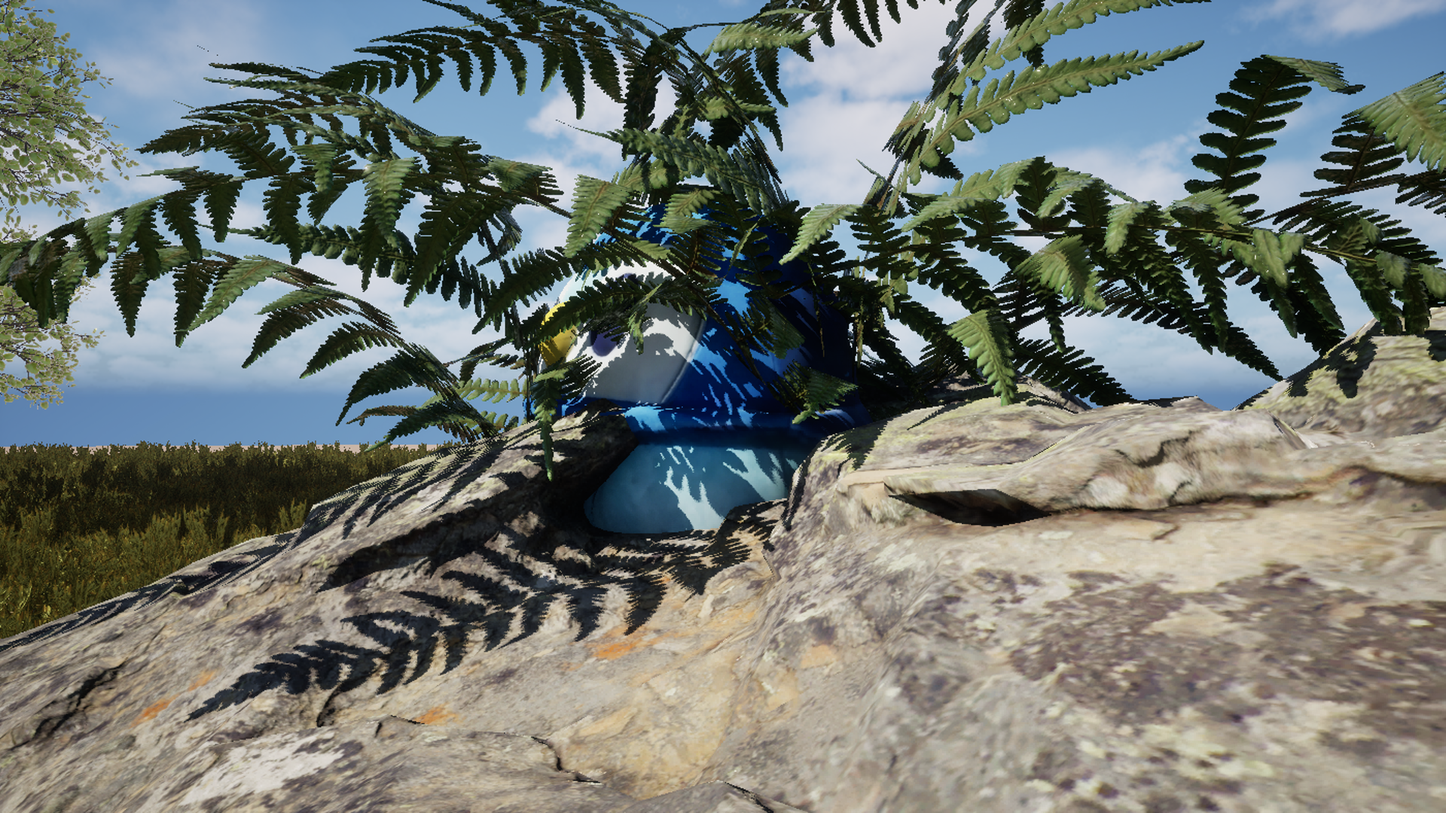Piplup: (370, 85, 1118, 728)
